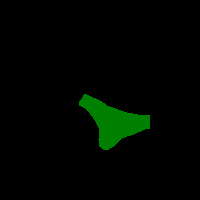mutande: (78, 93, 150, 150)
